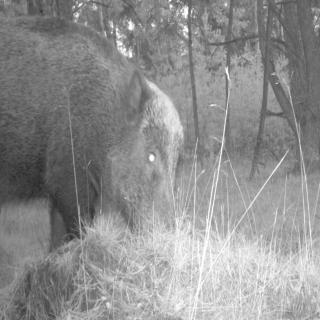Pig: (1, 0, 193, 258)
